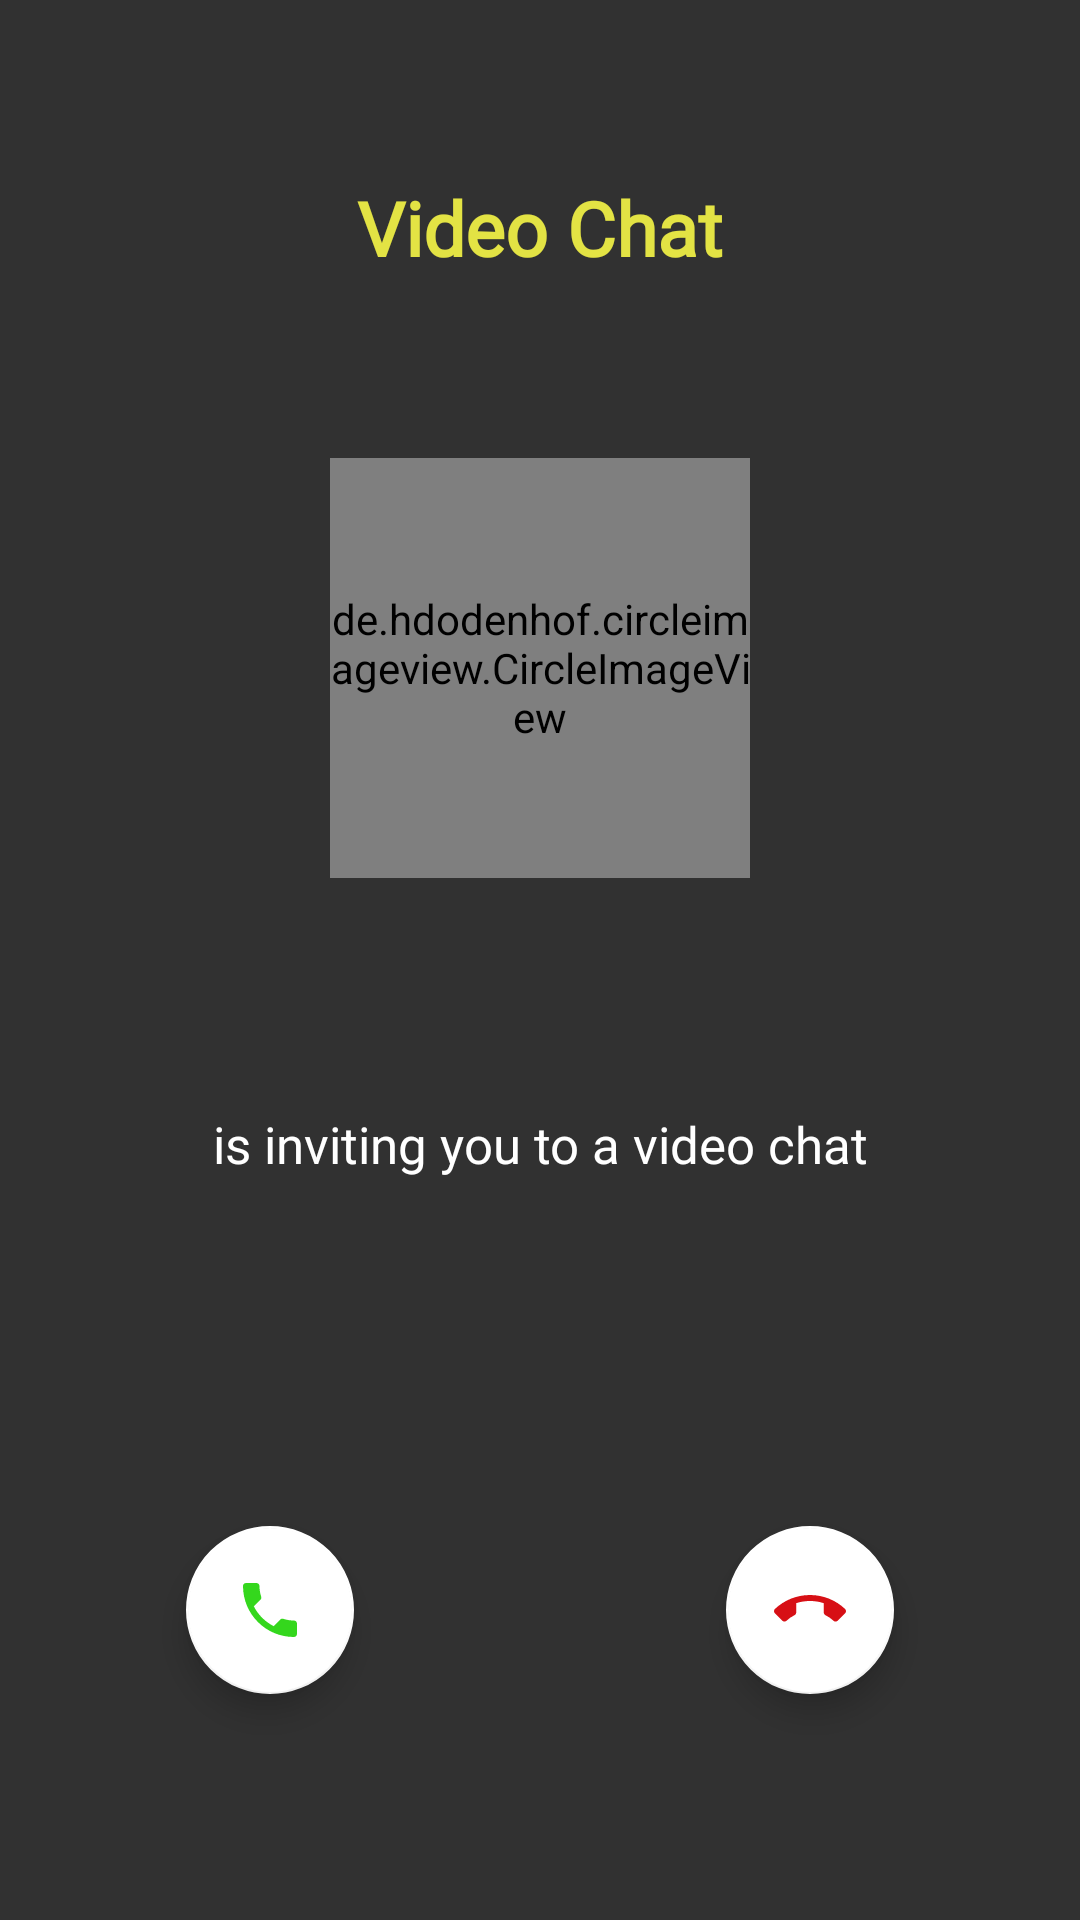

Icons on this 1080 × 1920 Android screen, each with its box as Rect(x1, y1, x2, y2):
answer call: Rect(186, 1526, 354, 1694)
end call: Rect(726, 1526, 894, 1694)
